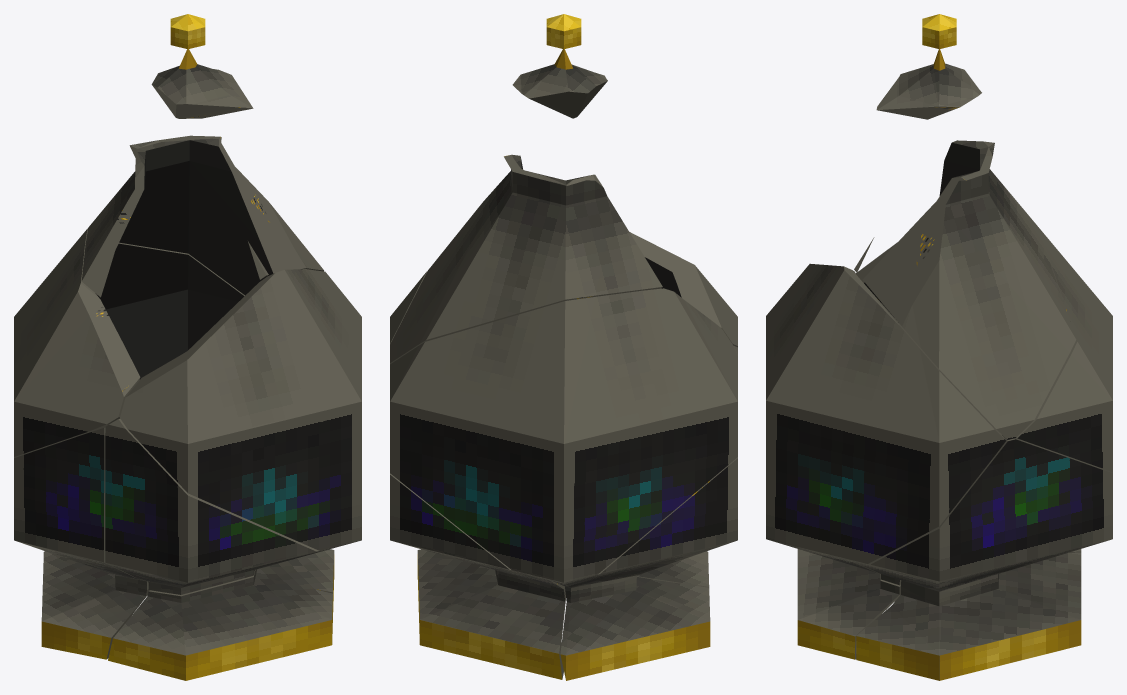
The model's file is fractured.glb.
3 views of the same model, side by side, from view 1: azimuth 30°, elevation 25°; view 2: azimuth 150°, elevation 25°; view 3: azimuth 270°, elevation 25° (orthographic).
Visible parts, largest first — view 1: Mesh_0_cell, Mesh_0_cell.005, Mesh_0_cell.001, Mesh_0_cell.006, Mesh_0_cell.004, Mesh_0_cell.008, Mesh_0_cell.010, Mesh_0_cell.012; view 2: Mesh_0_cell.005, Mesh_0_cell.001, Mesh_0_cell.006, Mesh_0_cell.012, Mesh_0_cell.010, Mesh_0_cell, Mesh_0_cell.008; view 3: Mesh_0_cell, Mesh_0_cell.012, Mesh_0_cell.001, Mesh_0_cell.005, Mesh_0_cell.008, Mesh_0_cell.010.
Part boxes in pixels (left/top/right/bottom): Mesh_0_cell: left=120, top=269, right=361, bottom=550; Mesh_0_cell.005: left=14, top=228, right=244, bottom=457; Mesh_0_cell.001: left=81, top=135, right=323, bottom=297; Mesh_0_cell.006: left=14, top=427, right=149, bottom=659; Mesh_0_cell.004: left=105, top=418, right=338, bottom=594; Mesh_0_cell.008: left=108, top=569, right=332, bottom=680; Mesh_0_cell.010: left=151, top=14, right=253, bottom=118; Mesh_0_cell.012: left=256, top=549, right=334, bottom=611; Mesh_0_cell.005: left=390, top=288, right=737, bottom=583; Mesh_0_cell.001: left=390, top=154, right=662, bottom=364; Mesh_0_cell.006: left=551, top=457, right=737, bottom=680; Mesh_0_cell.012: left=390, top=473, right=565, bottom=679; Mesh_0_cell.010: left=512, top=14, right=607, bottom=118; Mesh_0_cell: left=390, top=232, right=737, bottom=347; Mesh_0_cell.008: left=637, top=551, right=709, bottom=587; Mesh_0_cell: left=766, top=263, right=1005, bottom=563; Mesh_0_cell.012: left=854, top=436, right=1112, bottom=680; Mesh_0_cell.001: left=863, top=140, right=1076, bottom=439; Mesh_0_cell.005: left=856, top=227, right=1112, bottom=473; Mesh_0_cell.008: left=797, top=549, right=900, bottom=659; Mesh_0_cell.010: left=876, top=14, right=981, bottom=119.
Bounding box in the file's own units: 0.4936 × 0.8099 × 0.4275.
1 material, 1 textured.
